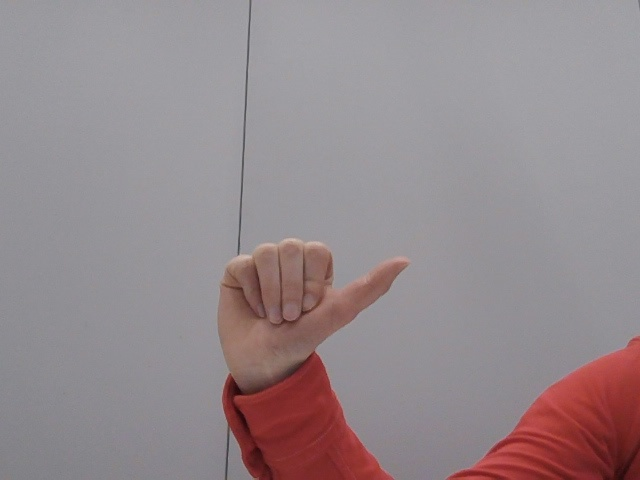left: (182, 217, 426, 400)
